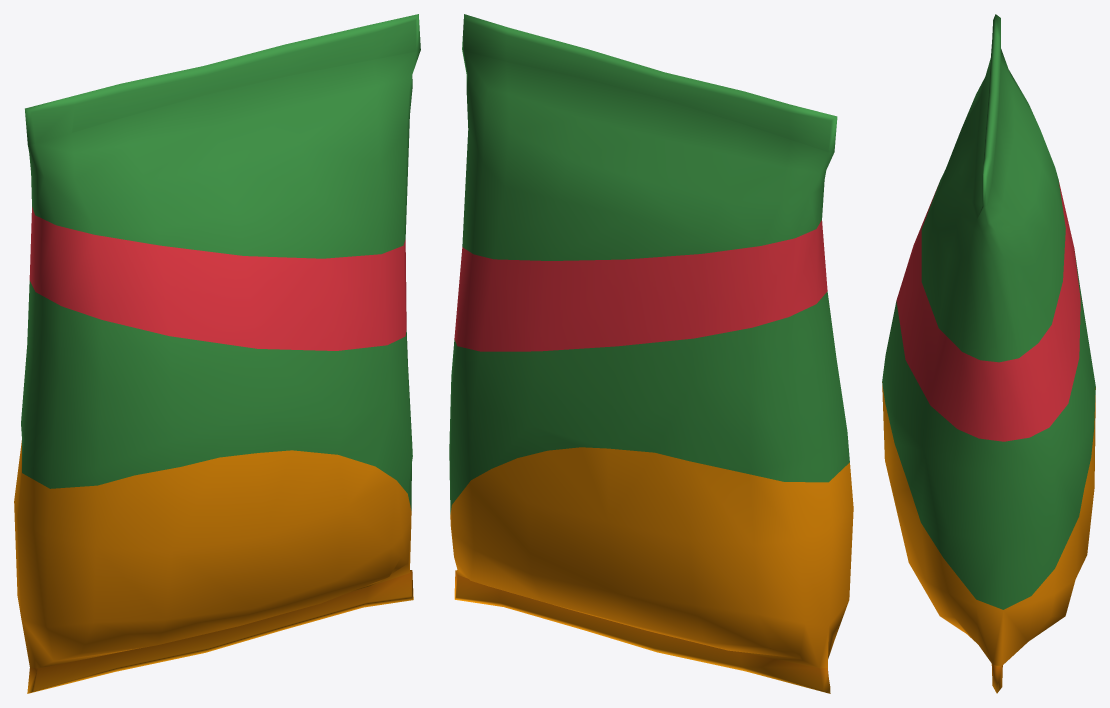
Rendered from chips_006.fbx.
3 views of the same model, side by side, from view 1: azimuth 30°, elevation 25°; view 2: azimuth 150°, elevation 25°; view 3: azimuth 270°, elevation 25° (orthographic). The views are drawn at different scales.
Visible parts, largest first — view 1: chips_006; view 2: chips_006; view 3: chips_006.
Part boxes in pixels (bbox=[...]): chips_006: bbox=[14, 14, 420, 693]; chips_006: bbox=[449, 14, 853, 693]; chips_006: bbox=[882, 14, 1095, 693].
Bounding box in the file's own units: 21.61 × 11.72 × 31.47.
